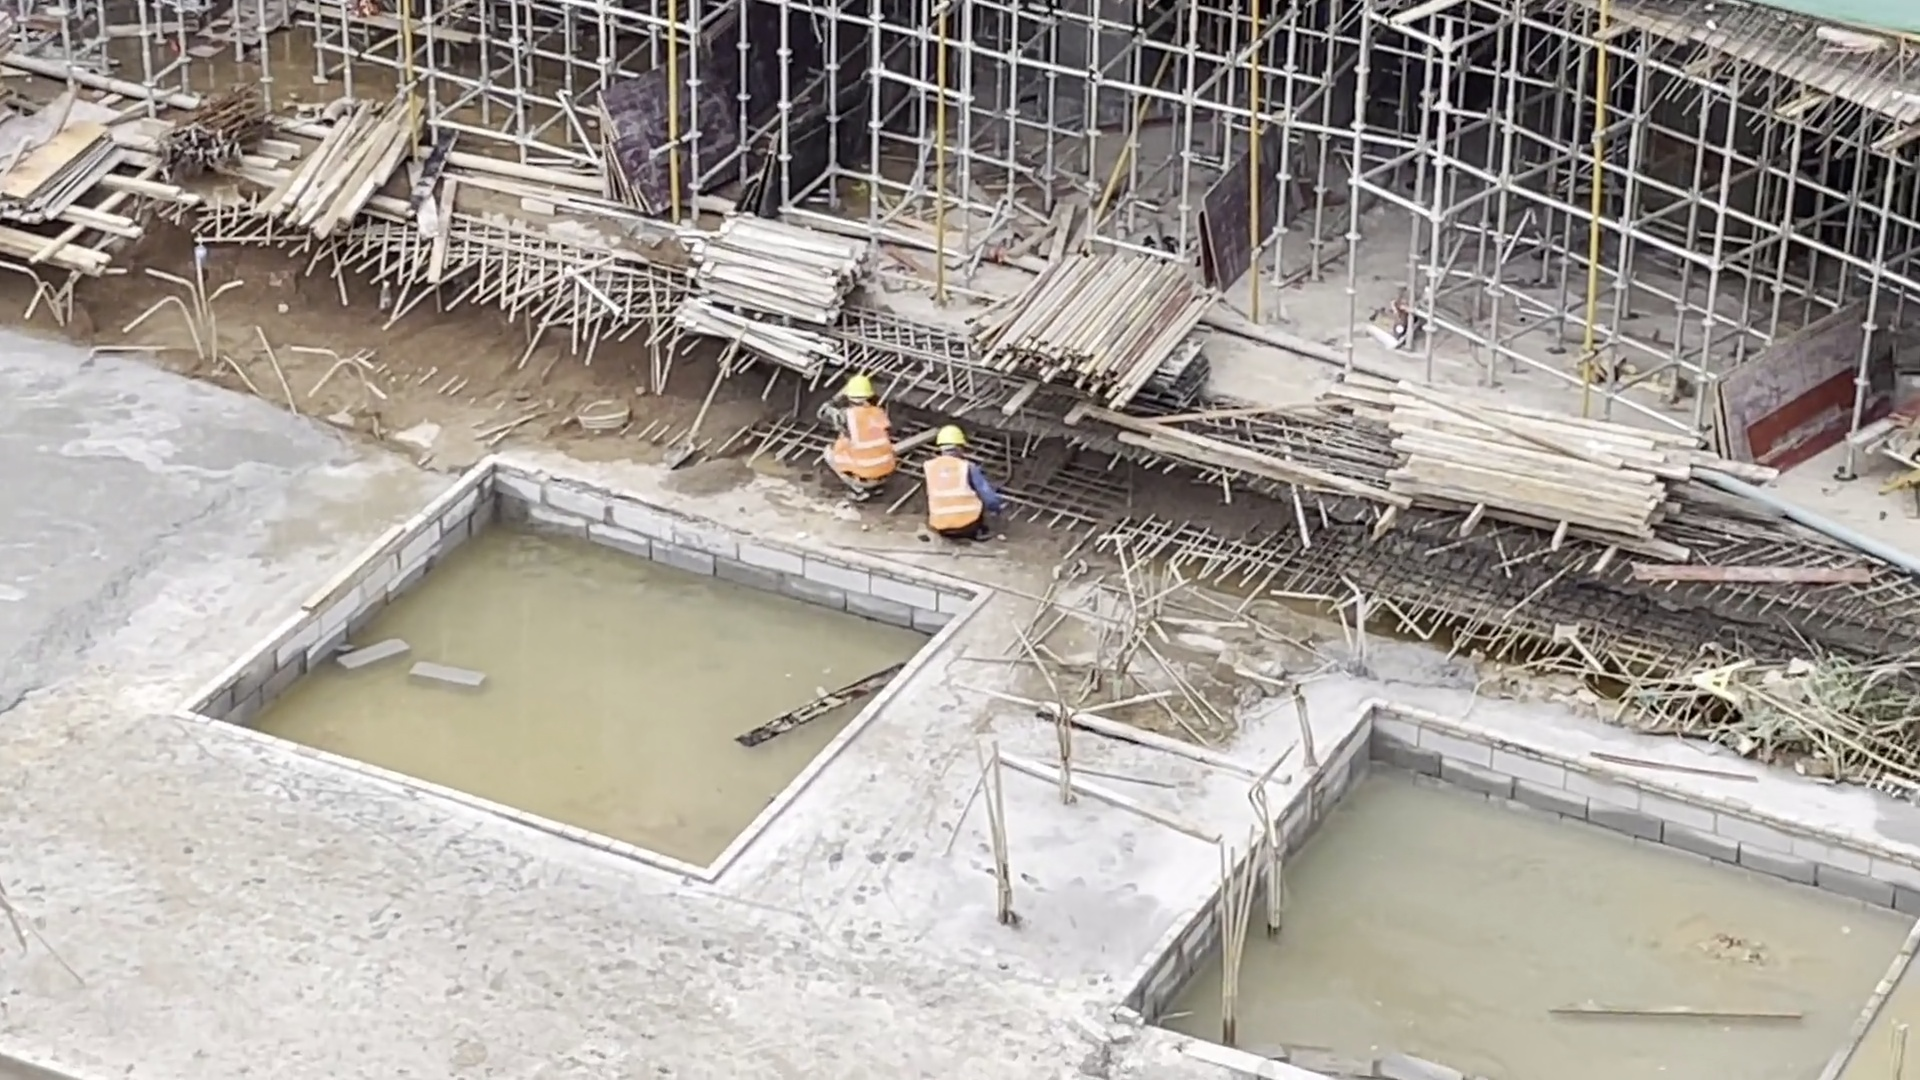helmet: (843, 376, 876, 399), (936, 424, 967, 448)
person: (813, 366, 900, 508), (920, 425, 1006, 545)
vest: (818, 412, 893, 485), (922, 450, 980, 532)
wood: (1337, 371, 1720, 560), (672, 216, 867, 367), (261, 99, 431, 233)
